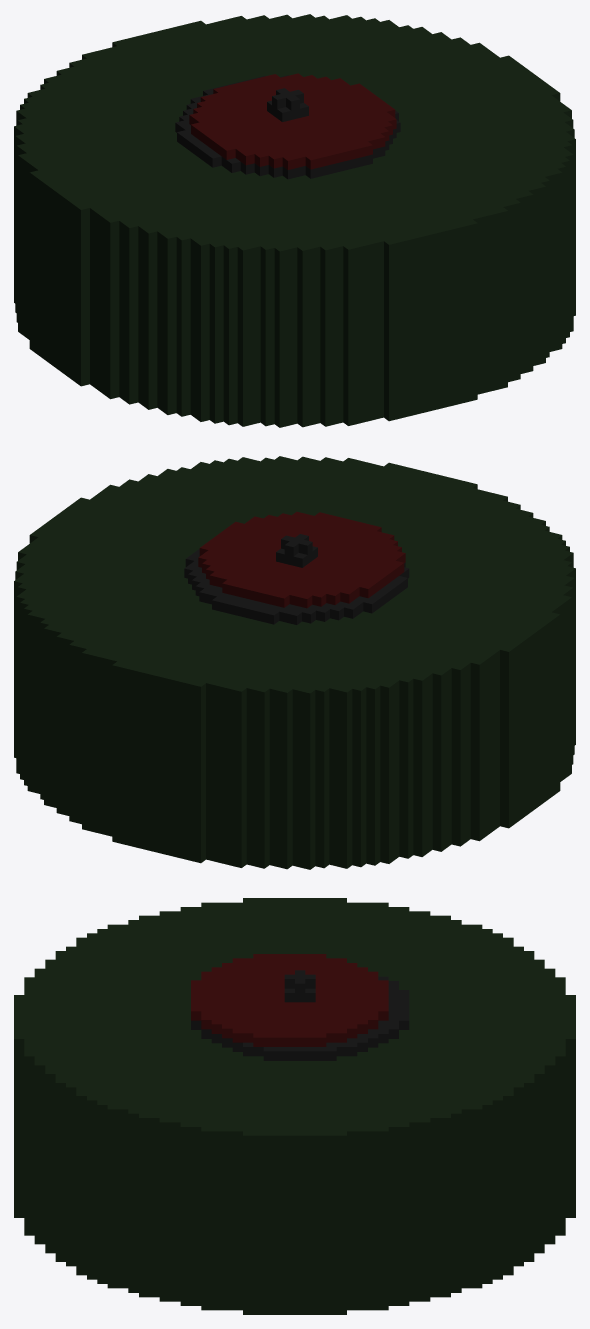
The model's file is противотанковая мина.obj.
The picture shows the model from 3 angles, top to bottom: view 1: azimuth 30°, elevation 25°; view 2: azimuth 150°, elevation 25°; view 3: azimuth 270°, elevation 25°; orthographic projection.
Bounding box in the file's own units: 5.4 × 2.3 × 5.4.
Materials: 1 (1 with a texture image).
